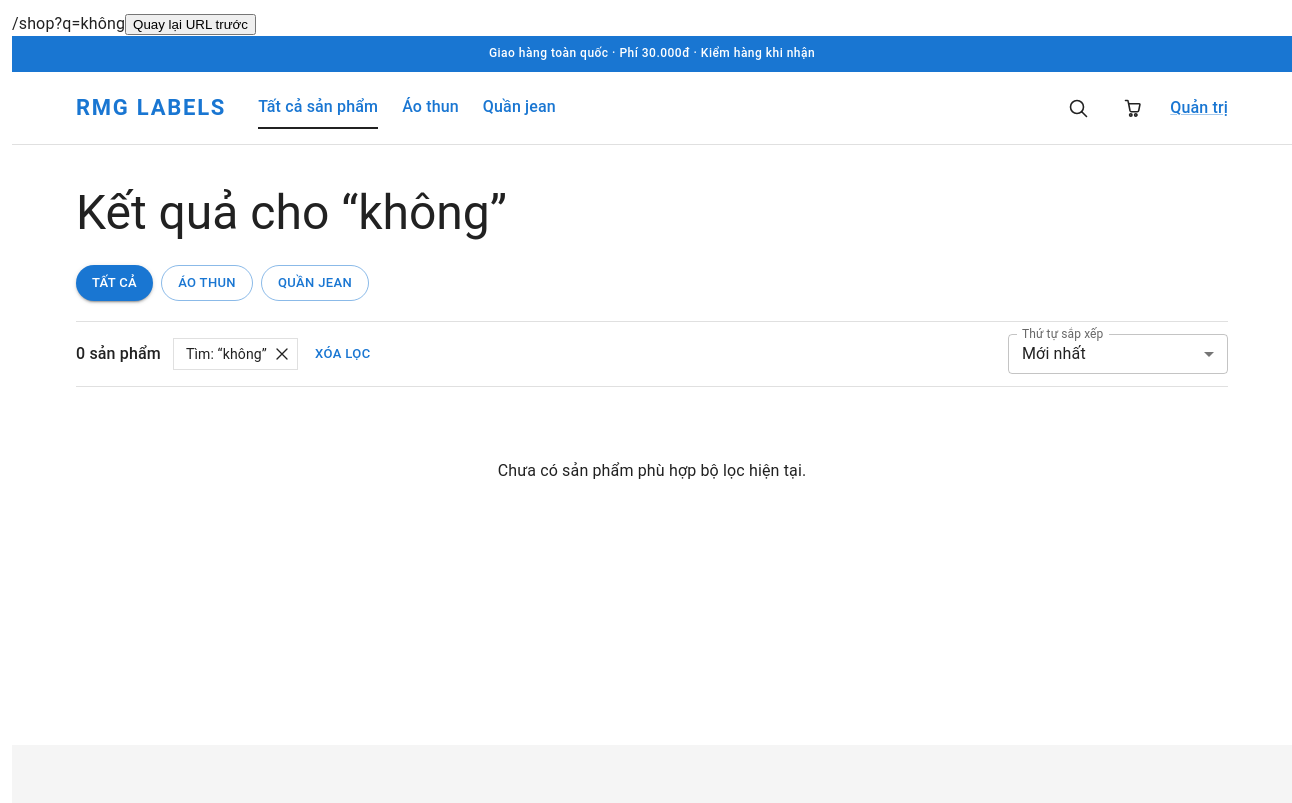
Scenario: public shop catalog › explains an empty filtered list and offers clearing the filters
The image size is (1292, 803).
expect the text "Chưa có sản phẩm phù hợp bộ lọc hiện tại." is shown: met, box x1=498 y1=461 x2=806 y2=480
Click the button "Xóa lọc". click: point(343, 354)
box: x1=310 y1=336 x2=376 y2=372
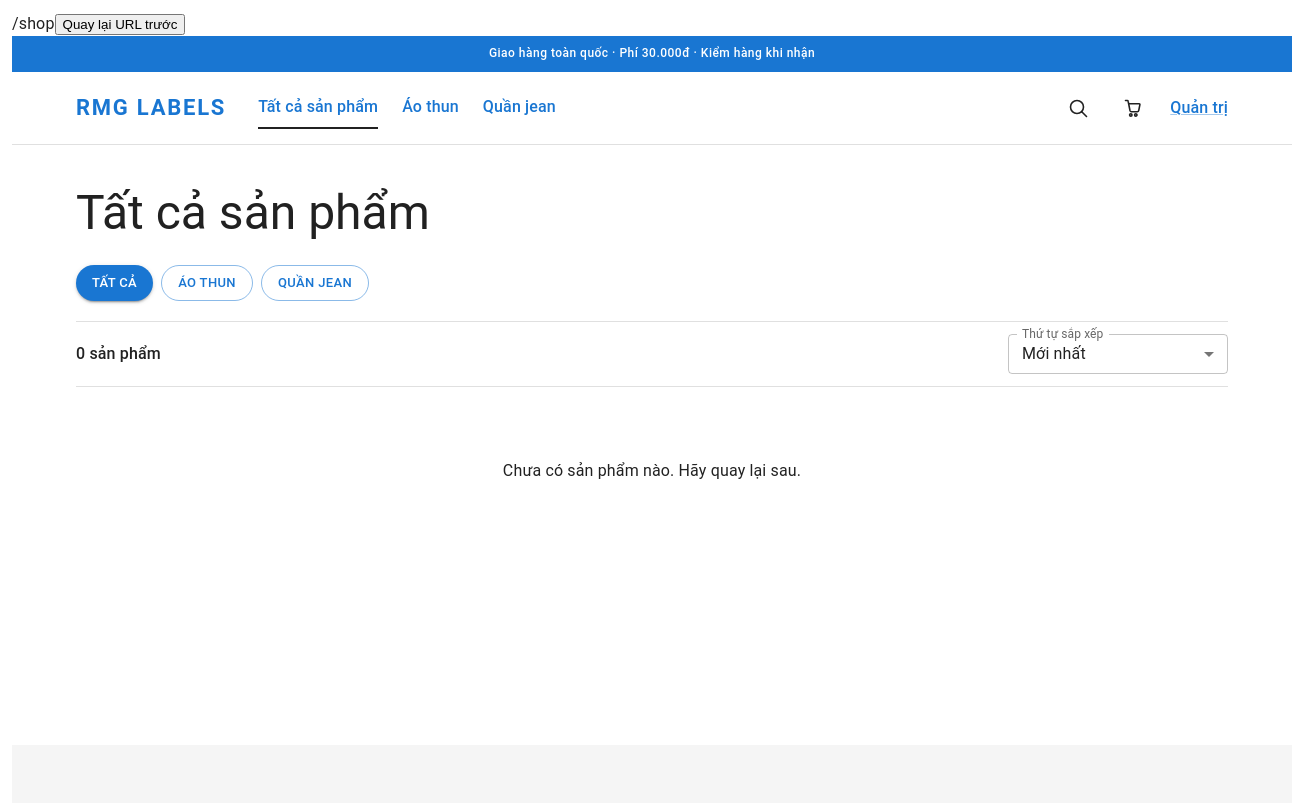
expect the text with test id "url" reads "/shop": met, box x1=12 y1=14 x2=54 y2=33
expect the text "Chưa có sản phẩm nào. Hãy quay lại sau." is shown: met, box x1=503 y1=461 x2=801 y2=480
